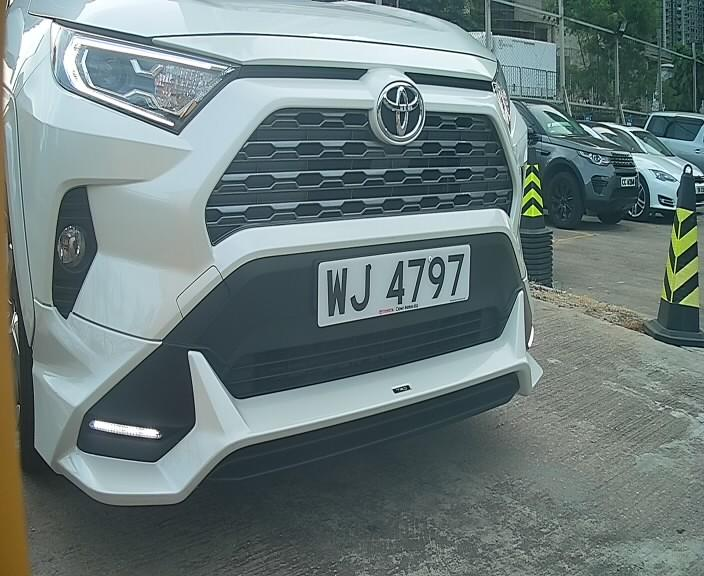Car: (7, 1, 576, 520)
License Plate: (309, 237, 481, 330)
